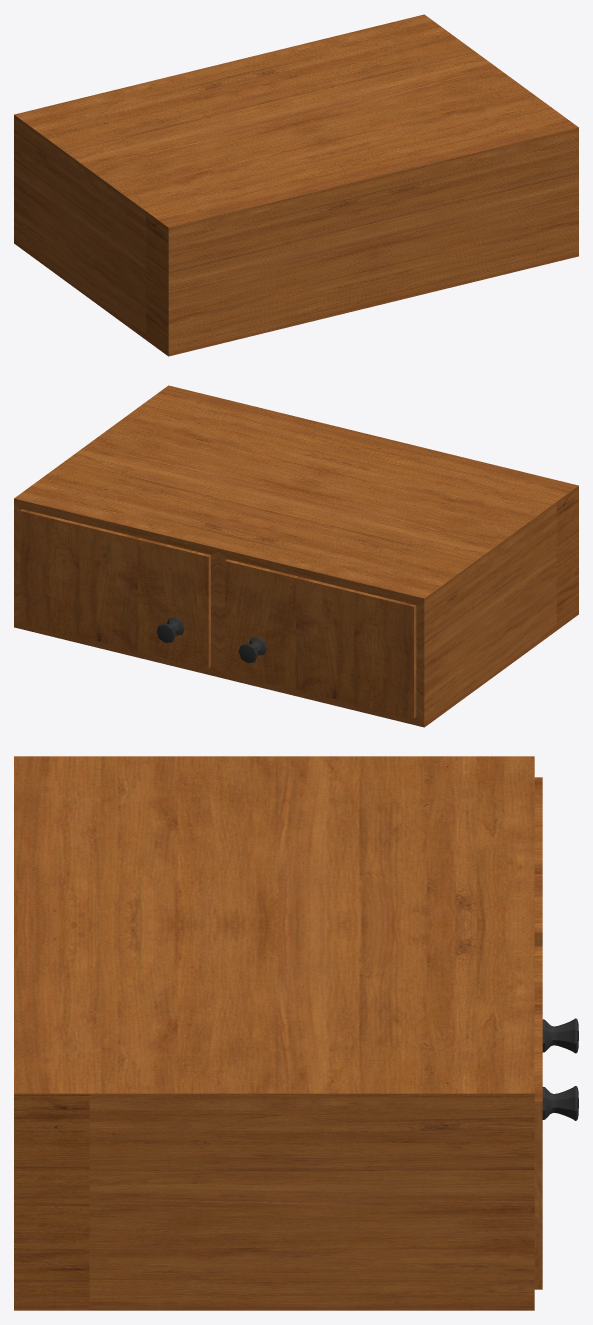
File: cabinetsLow.fbx
3 renders of one model, top to bottom at view 1: azimuth 30°, elevation 25°; view 2: azimuth 150°, elevation 25°; view 3: azimuth 270°, elevation 25°, orthographic. The views are drawn at different scales.
Parts seen in each view (by area): view 1: Cube; view 2: Cube; view 3: Cube.
Boxes of the visible parts, left/top/right/bottom form: Cube: left=14, top=14, right=578, bottom=356; Cube: left=14, top=385, right=578, bottom=727; Cube: left=14, top=756, right=578, bottom=1310.
Bounding box in the file's own units: 200 × 60 × 142.
